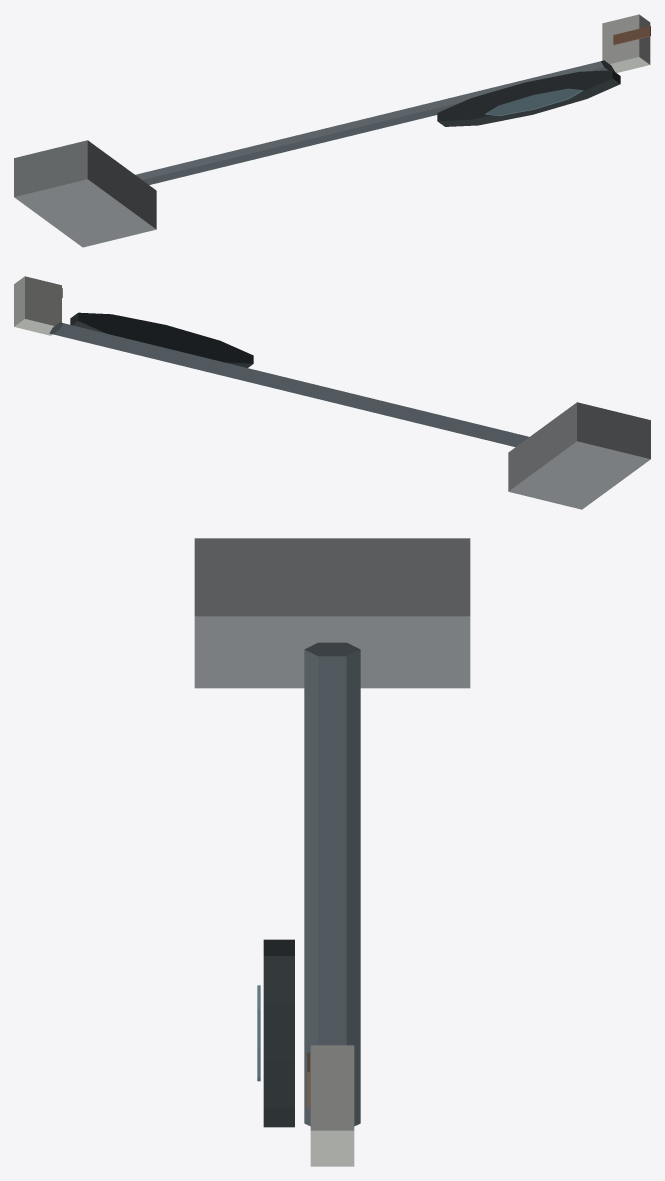
The model's file is fallen_signal.glb.
The picture shows the model from 3 angles, top to bottom: view 1: azimuth 30°, elevation 25°; view 2: azimuth 150°, elevation 25°; view 3: azimuth 270°, elevation 25°; orthographic projection. The views are drawn at different scales.
Visible parts, largest first — view 1: fallen_signal; view 2: fallen_signal; view 3: fallen_signal.
Part boxes in pixels (left/top/right/bottom): fallen_signal: left=14, top=14, right=650, bottom=247; fallen_signal: left=14, top=276, right=650, bottom=509; fallen_signal: left=194, top=538, right=470, bottom=1166.
Bounding box in the file's own units: 4.8 × 0.45 × 0.96.
